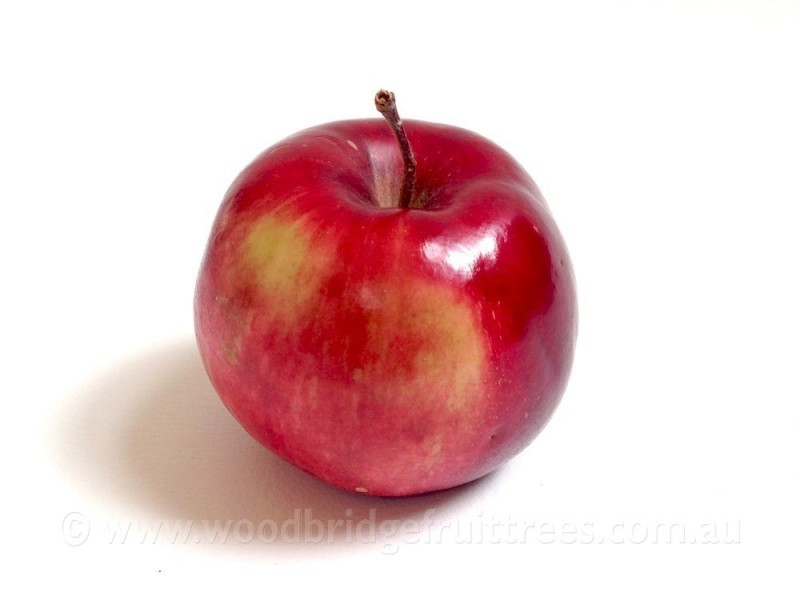elma: (185, 87, 577, 497)
